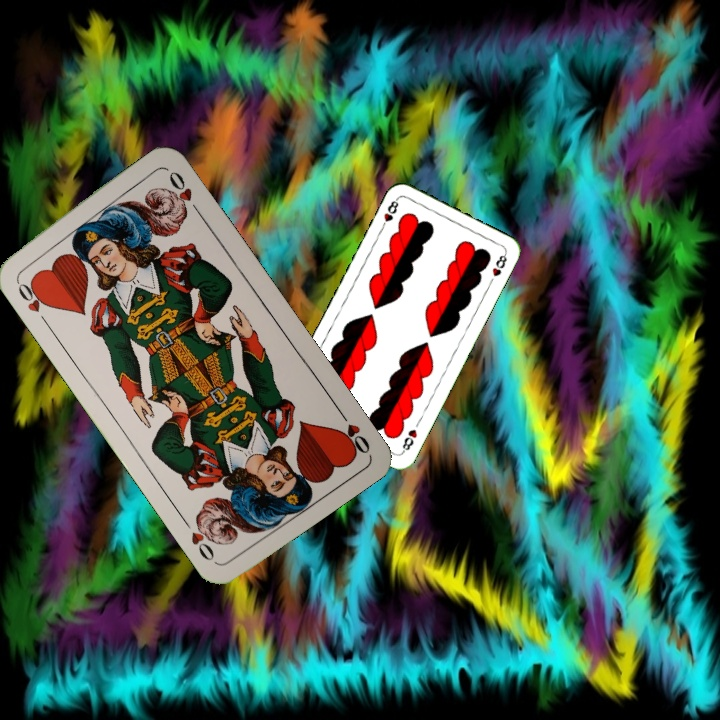H8: (377, 194, 401, 232), (398, 425, 420, 455)
HO: (11, 274, 54, 327), (333, 404, 373, 458)
